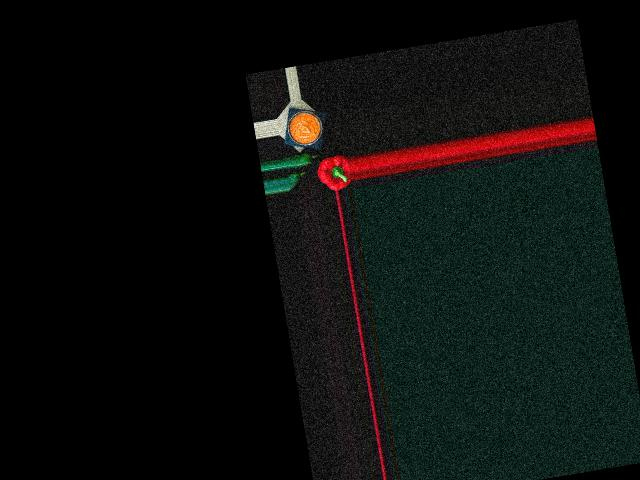bell_pepper: (316, 153, 352, 191)
